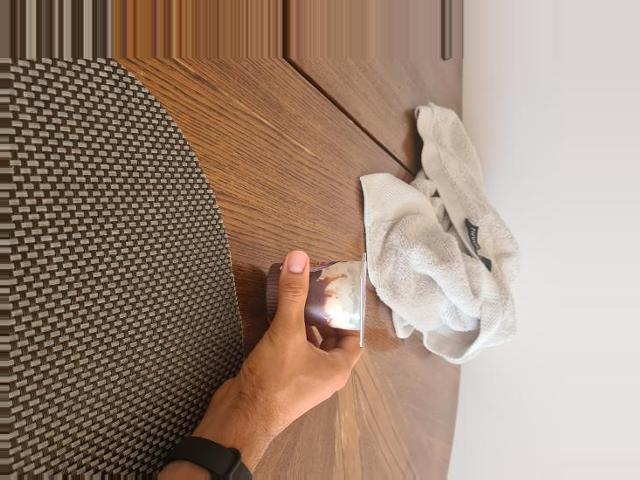milky: (262, 251, 365, 344)
